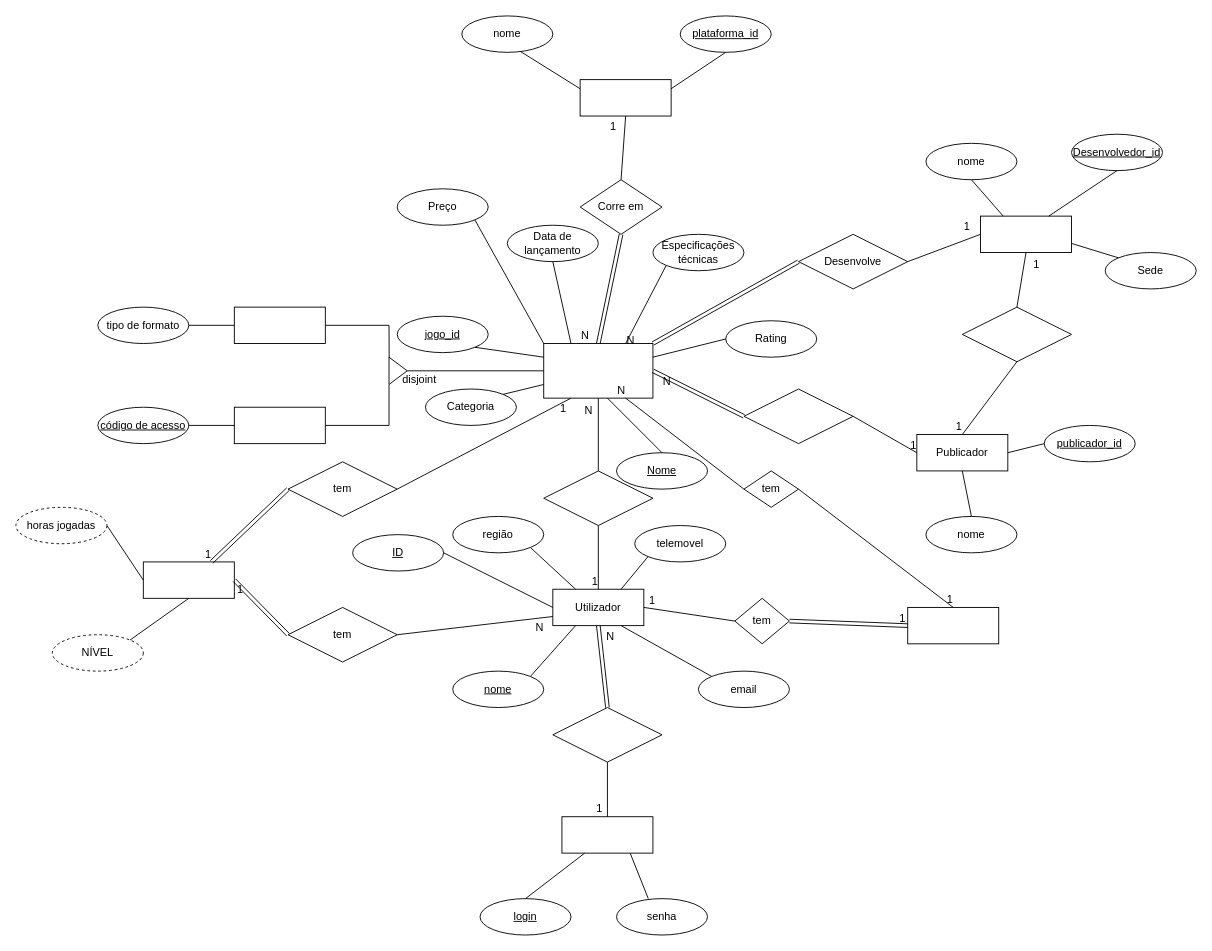
Some shapes in this 1212 by 951 pixel diagram are drawn without their labels. The centre of each missing label's shape, as x and y in pixels:
autentica: point (607, 734)
Compra: point (598, 498)
Desenvolvedor: point (1026, 234)
formato digital: point (279, 425)
formato físico: point (279, 325)
Fornece: point (1016, 334)
Jogos: point (598, 370)
lista de desejos: point (953, 625)
Plataforma: point (625, 97)
Publica: point (798, 416)
Sistema de autenticação: point (607, 834)
Statisticas: point (188, 579)
